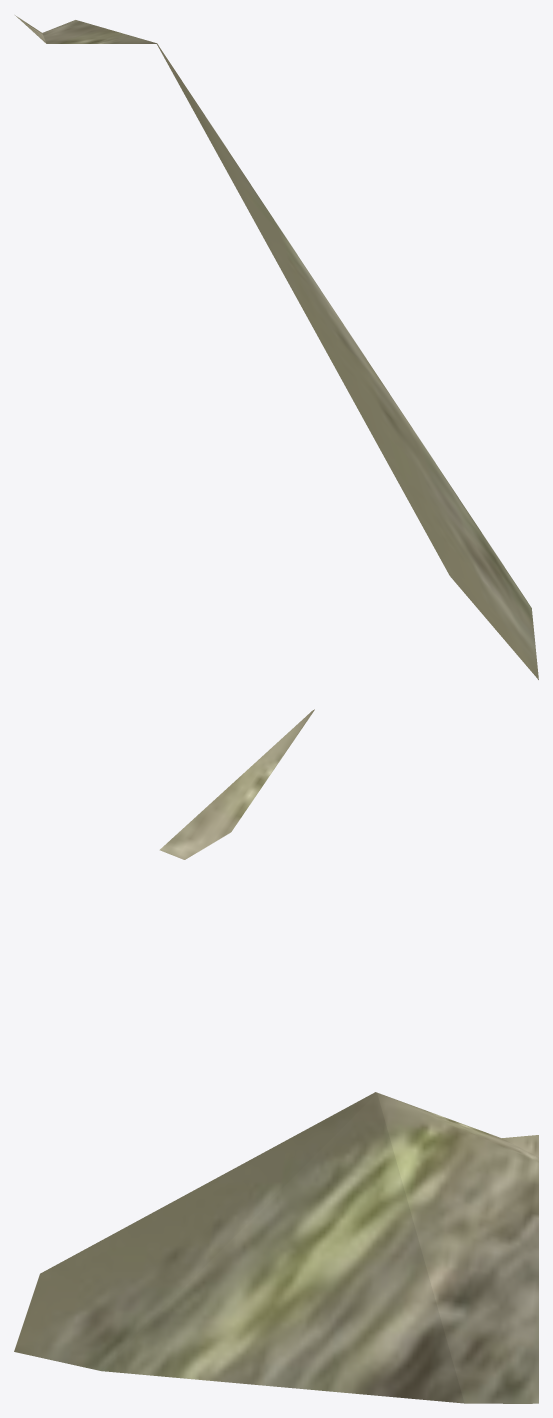
3 views of the same model, one above another, from view 1: azimuth 30°, elevation 25°; view 2: azimuth 150°, elevation 25°; view 3: azimuth 270°, elevation 25° (orthographic). The views are drawn at different scales.
Bounding box in the file's own units: 0.9068 × 1.44 × 2.85.
Materials: 1 (1 with a texture image).
